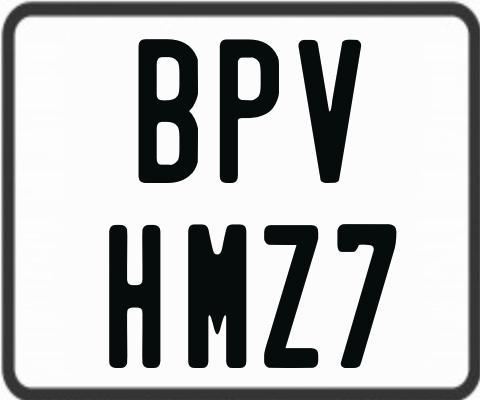7: (334, 223, 395, 367)
B: (139, 38, 203, 188)
H: (106, 224, 163, 367)
M: (187, 221, 247, 367)
P: (219, 36, 282, 181)
V: (295, 38, 360, 181)
Z: (261, 223, 321, 368)
